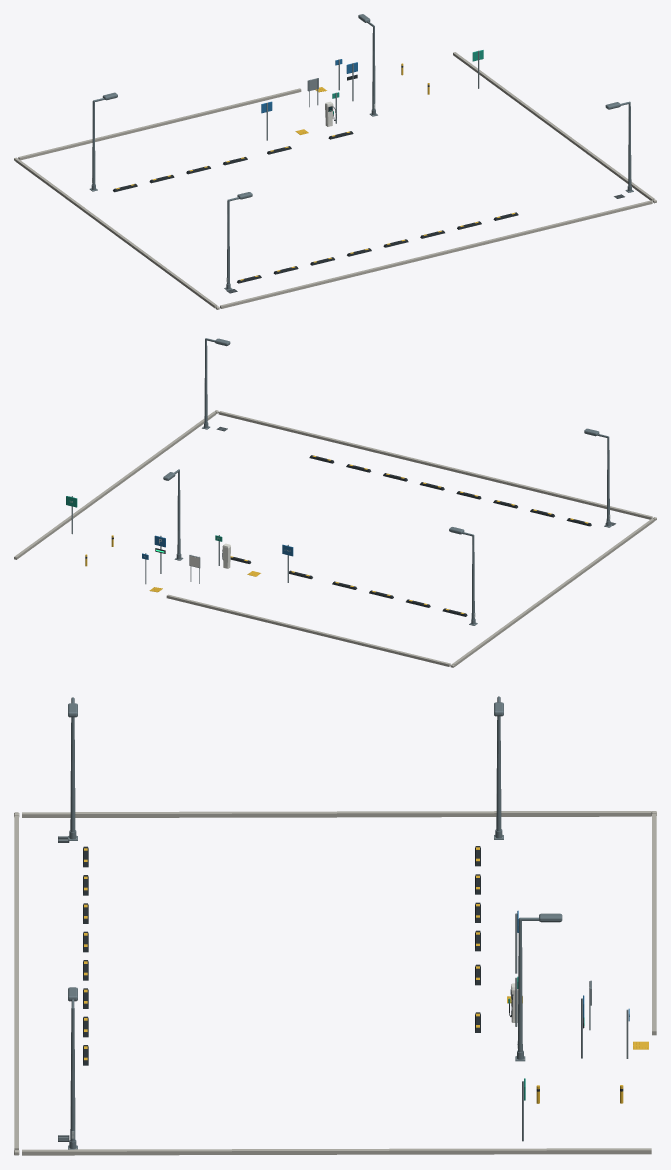
Rendered from SIMUS_Parking_ModularProps.fbx.
3 views of the same model, one above another, from view 1: azimuth 30°, elevation 25°; view 2: azimuth 150°, elevation 25°; view 3: azimuth 270°, elevation 25° (orthographic). The views are drawn at different scales.
Bounding box in the file's own units: 3000 × 599 × 2400.
